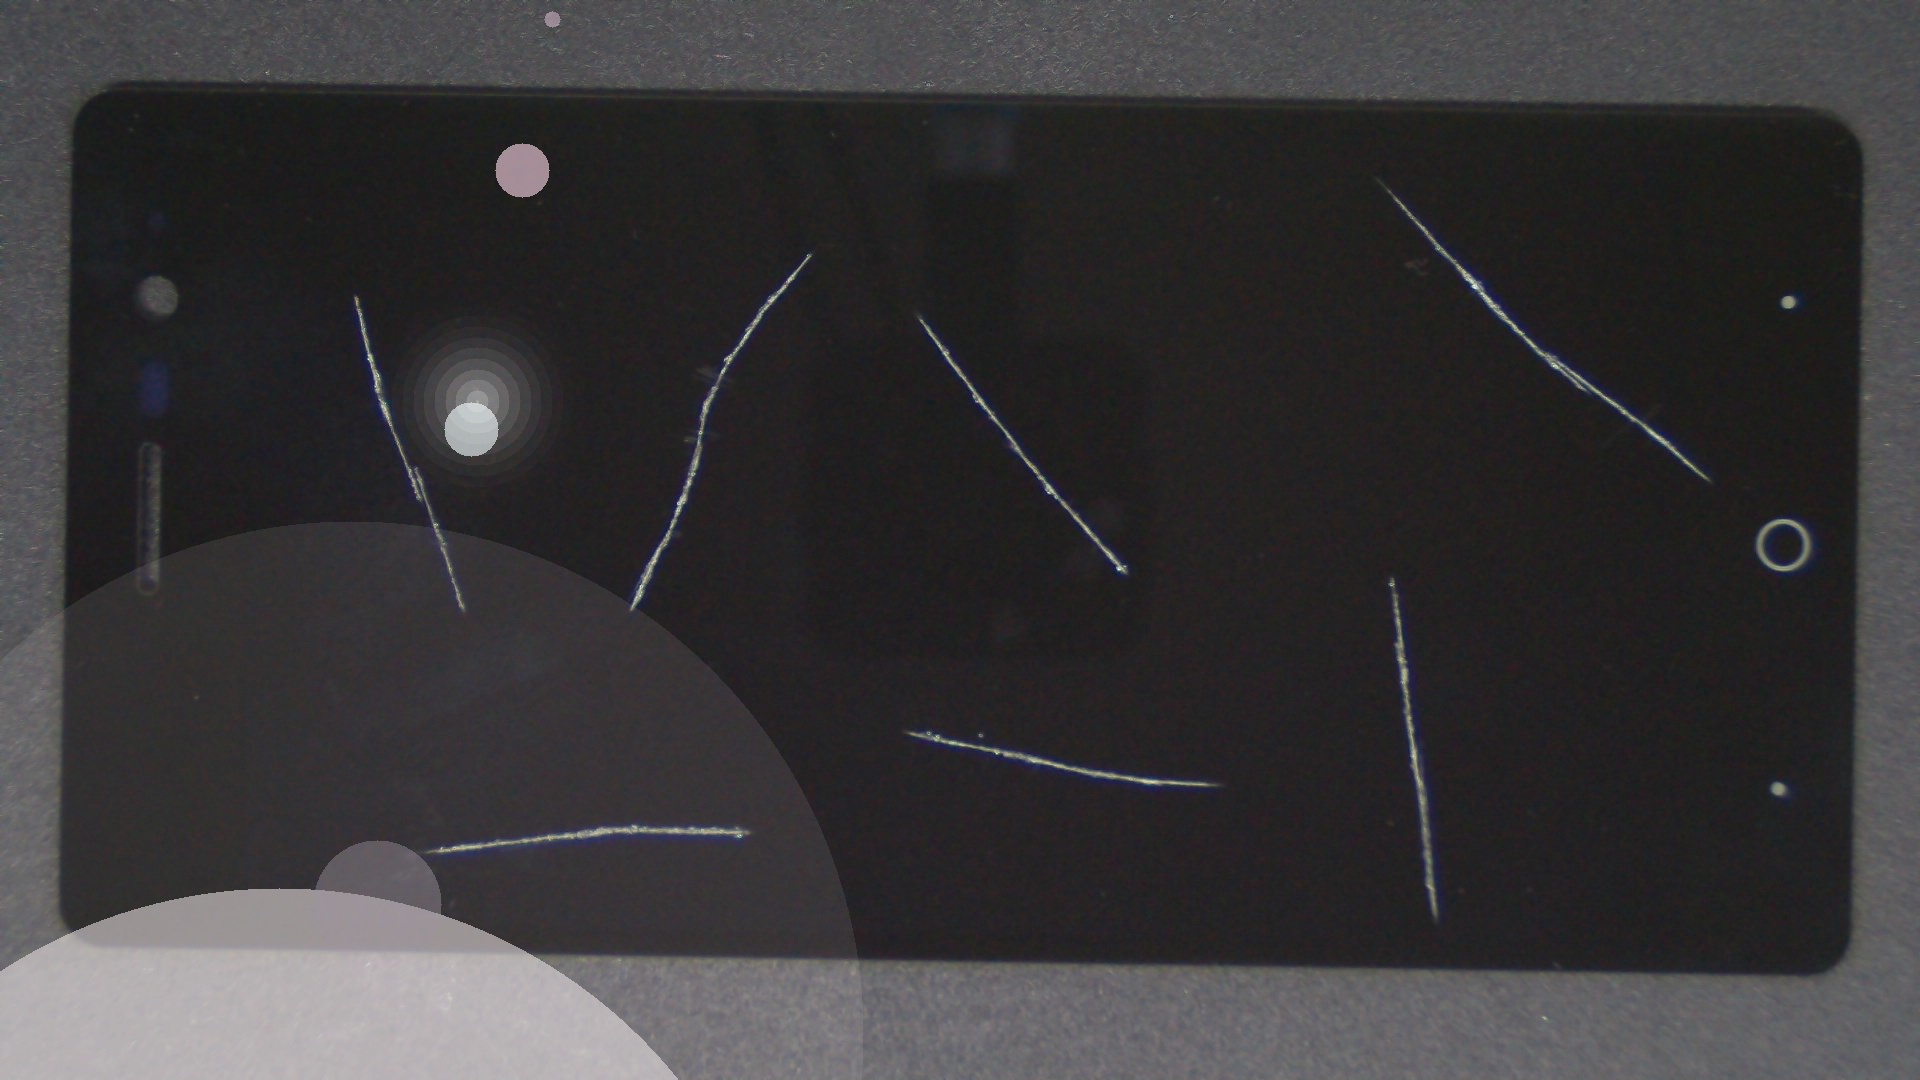oil: (694, 285, 1920, 865), (454, 364, 1357, 1080), (318, 410, 952, 1080), (458, 154, 1374, 473), (692, 91, 1920, 276), (404, 125, 1209, 378), (178, 146, 534, 440)
